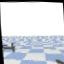drone: (1, 42, 15, 52)
